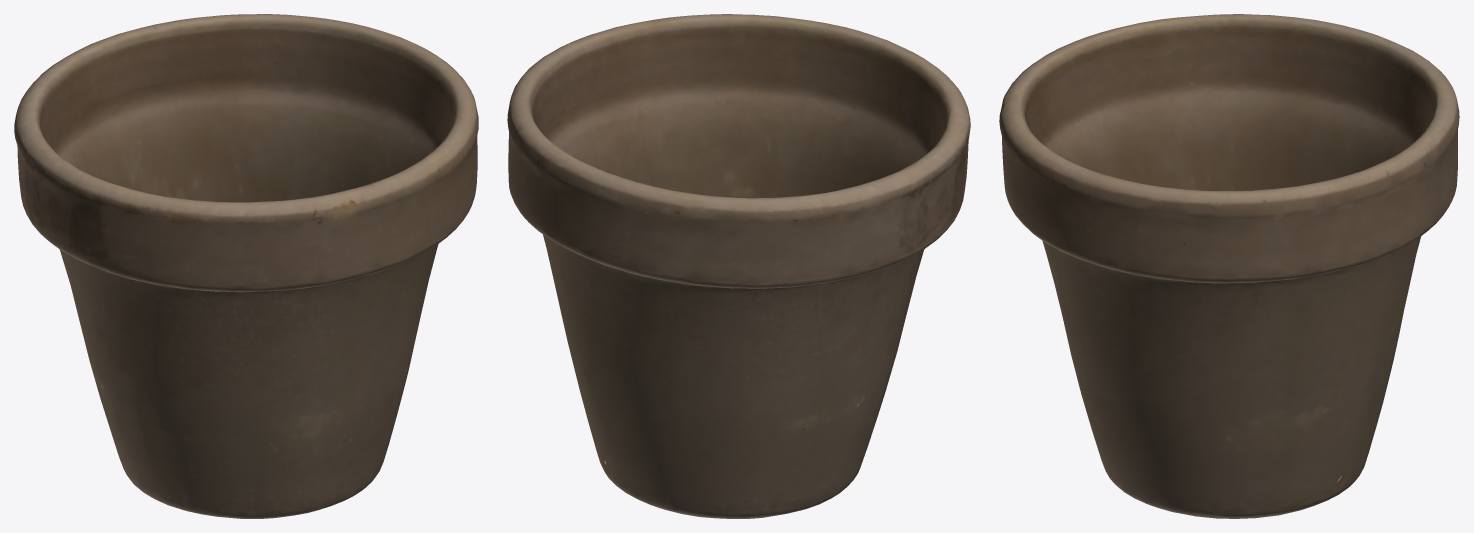
File: Central_Garden_Flower_Pot_Goo_425.glb
The picture shows the model from 3 angles, left to right: view 1: azimuth 30°, elevation 25°; view 2: azimuth 150°, elevation 25°; view 3: azimuth 270°, elevation 25°; orthographic projection.
Parts seen in each view (by area): view 1: Central_Garden_Flower_Pot_Goo_425; view 2: Central_Garden_Flower_Pot_Goo_425; view 3: Central_Garden_Flower_Pot_Goo_425.
Part boxes in pixels (x1,y1,x2,y2): Central_Garden_Flower_Pot_Goo_425: (14,14,478,518); Central_Garden_Flower_Pot_Goo_425: (507,14,970,518); Central_Garden_Flower_Pot_Goo_425: (999,14,1459,518).
Size of the model in its own units: 0.1153 by 0.1007 by 0.1137.
1 material, 1 textured.
